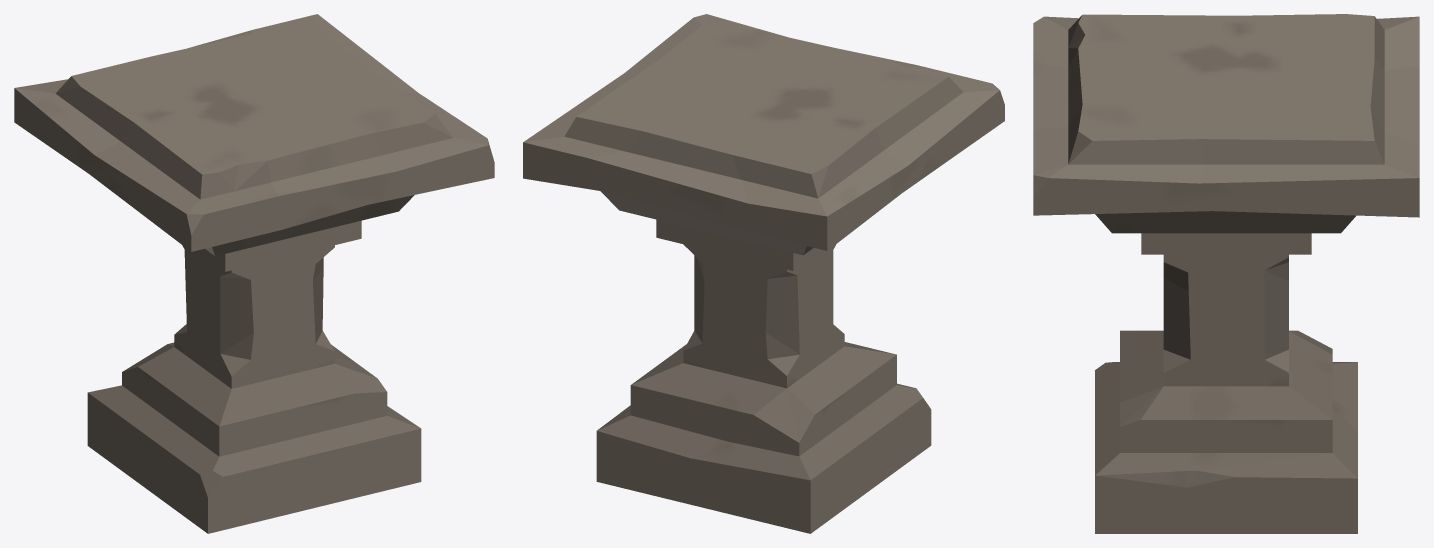
File: forge_table_small.gltf
3 views of the same model, side by side, from view 1: azimuth 30°, elevation 25°; view 2: azimuth 150°, elevation 25°; view 3: azimuth 270°, elevation 25° (orthographic). The views are drawn at different scales.
Parts seen in each view (by area): view 1: forge_table_small; view 2: forge_table_small; view 3: forge_table_small.
Part boxes in pixels (<box>): forge_table_small: <box>14,14,494,533</box>; forge_table_small: <box>523,14,1004,533</box>; forge_table_small: <box>1033,14,1419,533</box>.
Size of the model in its own units: 0.7884 by 0.91 by 0.7972.
1 material, 1 textured.
